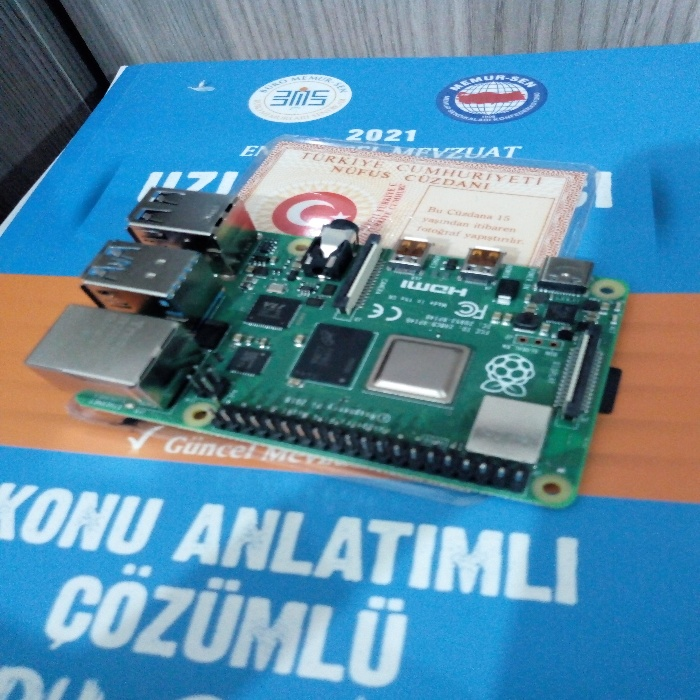raspberry: (34, 162, 635, 512)
